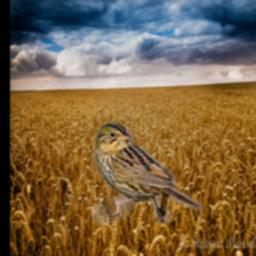Sparrow: (93, 121, 205, 223)
